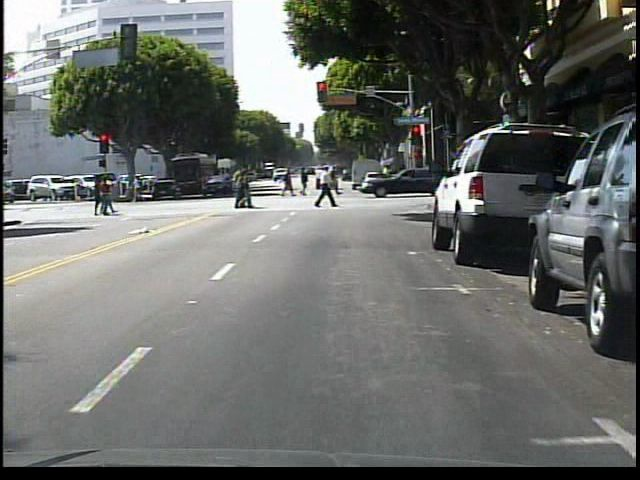person: (316, 162, 340, 213), (129, 173, 148, 204), (330, 167, 343, 196)
